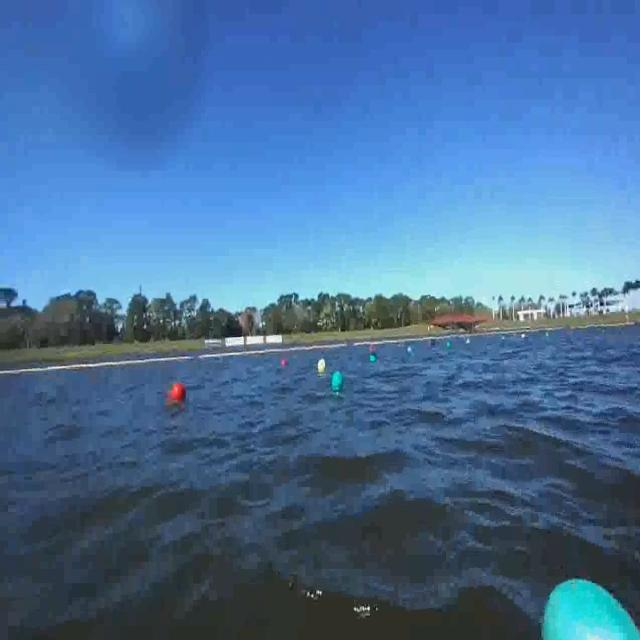green-buoy: (519, 560, 640, 638), (333, 372, 345, 391), (368, 354, 376, 363)
red-buoy: (170, 383, 187, 402), (282, 358, 288, 367)
yellow-buoy: (318, 358, 327, 372)
